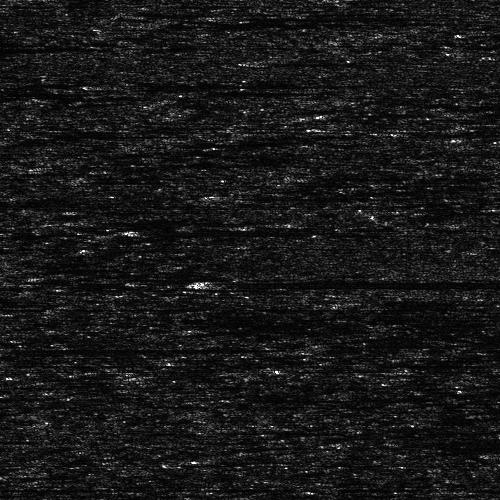rock: (148, 277, 263, 286), (0, 339, 35, 360), (109, 223, 150, 238), (130, 17, 193, 26), (309, 297, 372, 306), (71, 83, 134, 88), (423, 485, 486, 490), (185, 13, 226, 18), (212, 396, 253, 401), (259, 58, 270, 63)
shadow: (0, 339, 236, 360), (130, 223, 382, 238), (206, 277, 500, 286), (162, 17, 350, 26), (341, 297, 478, 306), (103, 83, 349, 88), (206, 13, 397, 18), (0, 46, 85, 51), (233, 396, 302, 401), (265, 58, 329, 63), (455, 485, 500, 490)
